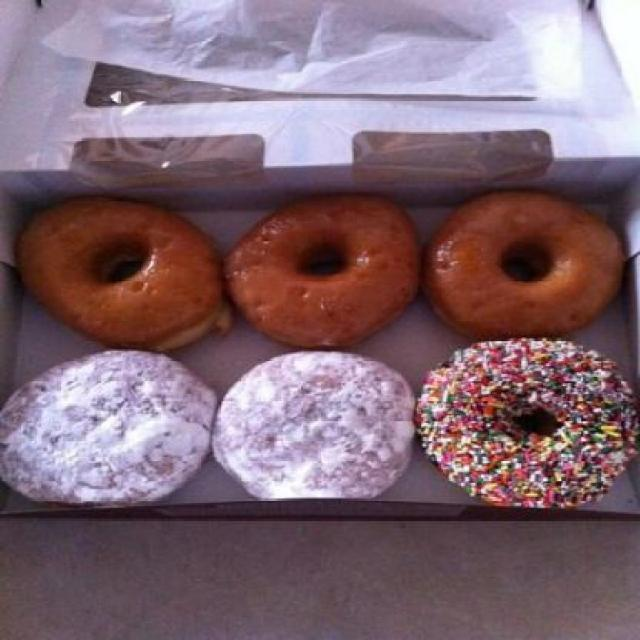Donuts: (2, 183, 636, 512)
